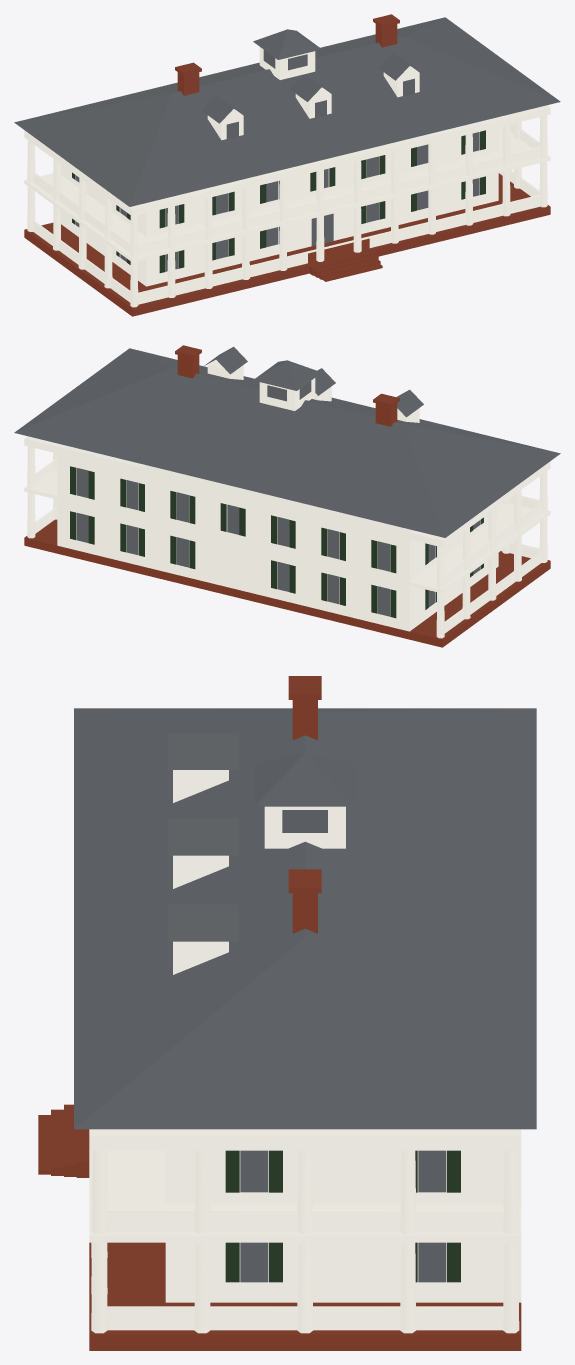
The model's file is Blender_PlantationClubhouse_1.glb.
3 renders of one model, top to bottom at view 1: azimuth 30°, elevation 25°; view 2: azimuth 150°, elevation 25°; view 3: azimuth 270°, elevation 25°, orthographic. The views are drawn at different scales.
Visible parts, largest first — view 1: Blender_PlantationClubhouse_1; view 2: Blender_PlantationClubhouse_1; view 3: Blender_PlantationClubhouse_1.
Part boxes in pixels (left/top/right/bottom): Blender_PlantationClubhouse_1: left=14, top=14, right=560, bottom=316; Blender_PlantationClubhouse_1: left=14, top=345, right=560, bottom=647; Blender_PlantationClubhouse_1: left=38, top=676, right=536, bottom=1350.
Bounding box in the file's own units: 39.2 × 17.09 × 19.6.
